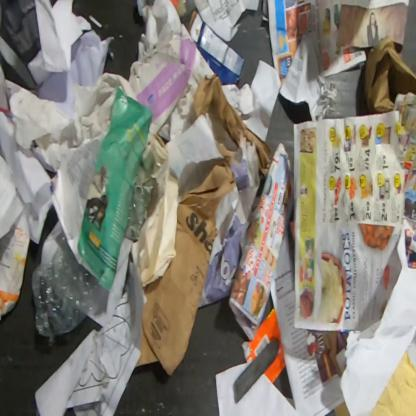cardboard: (188, 10, 247, 85), (363, 33, 415, 116), (0, 223, 31, 318)
rigid_plastic: (32, 237, 102, 338), (124, 176, 161, 242), (136, 0, 212, 18)
